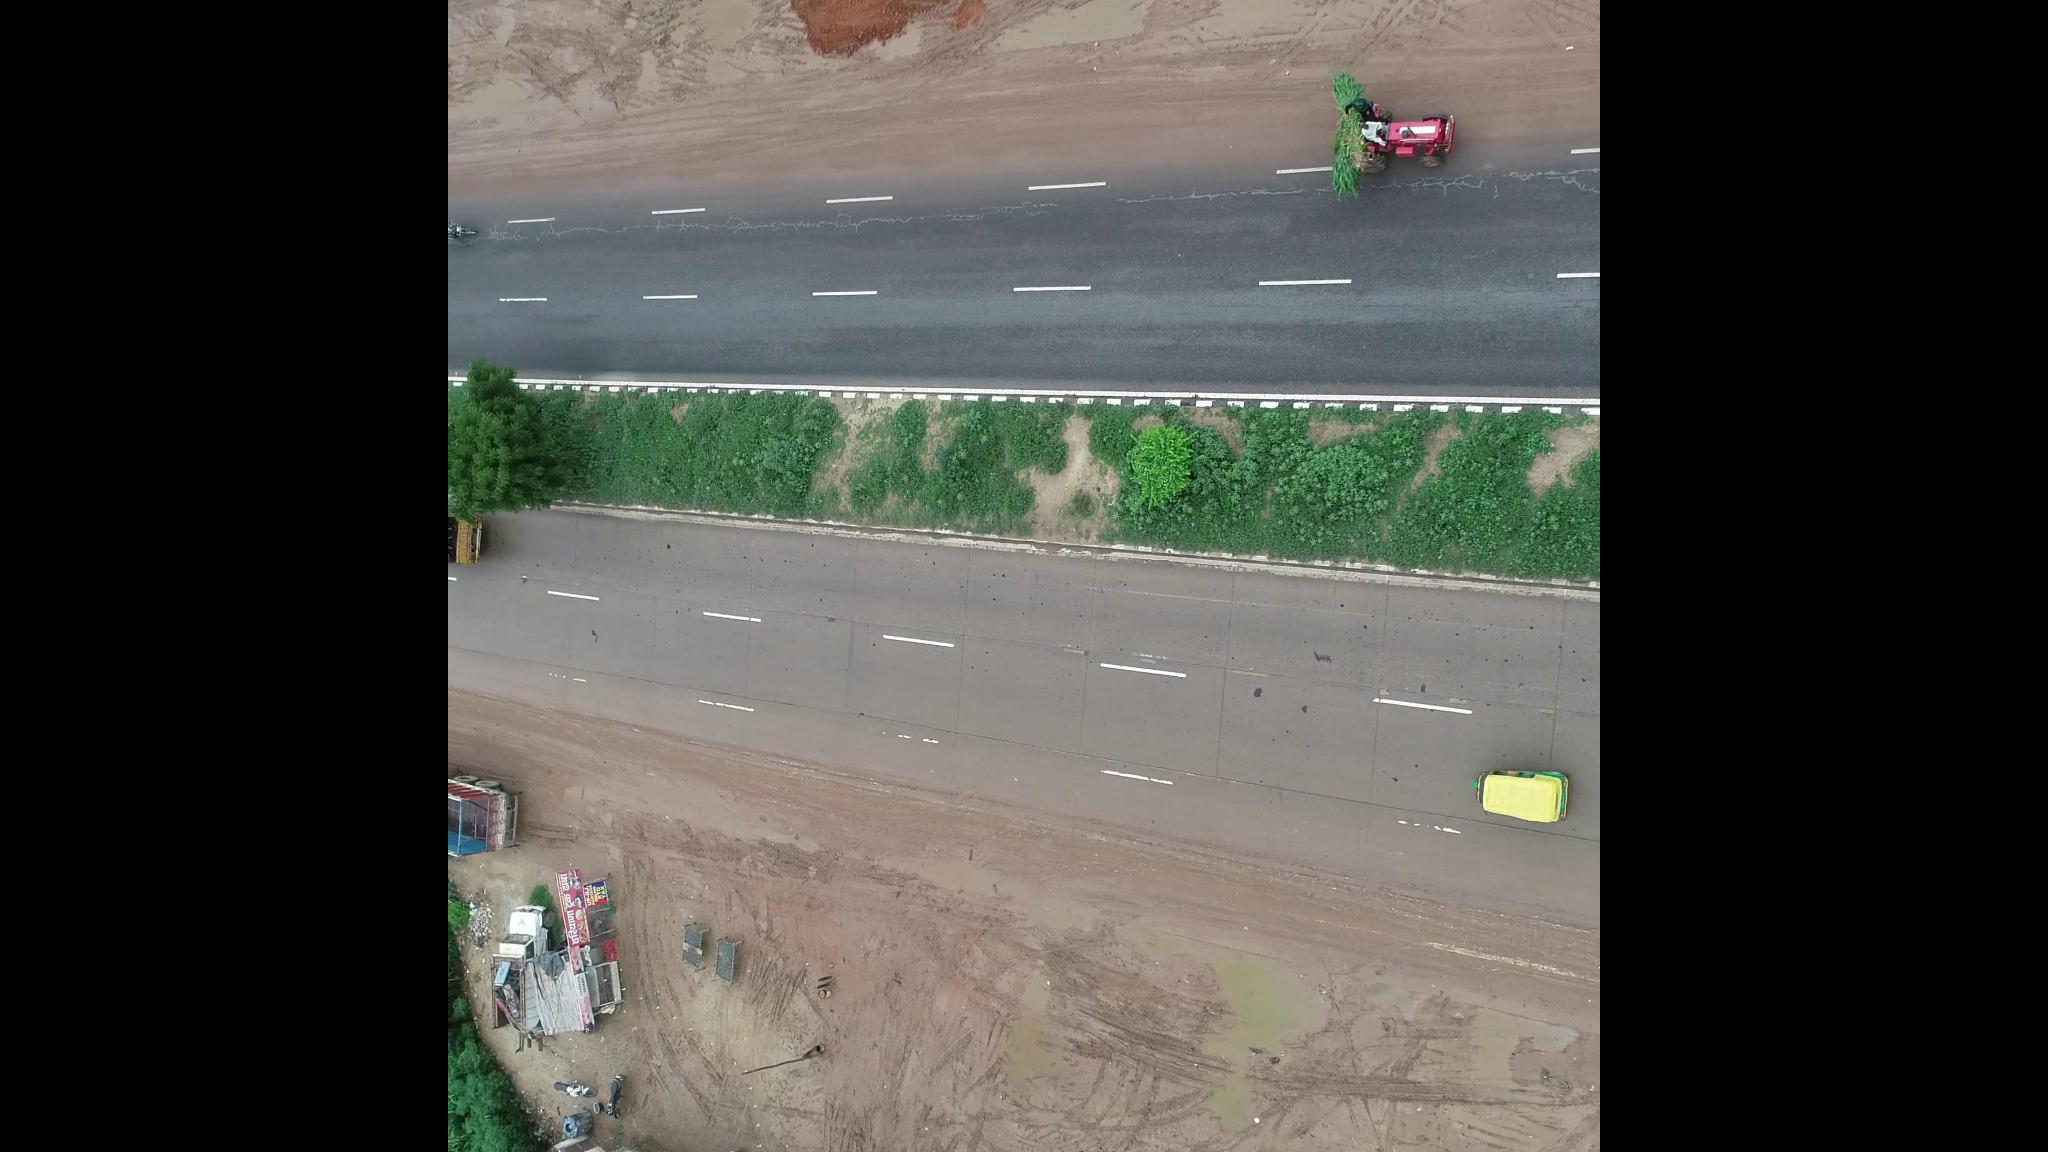Muddy_road: (738, 37, 1328, 180), (459, 58, 729, 193)
